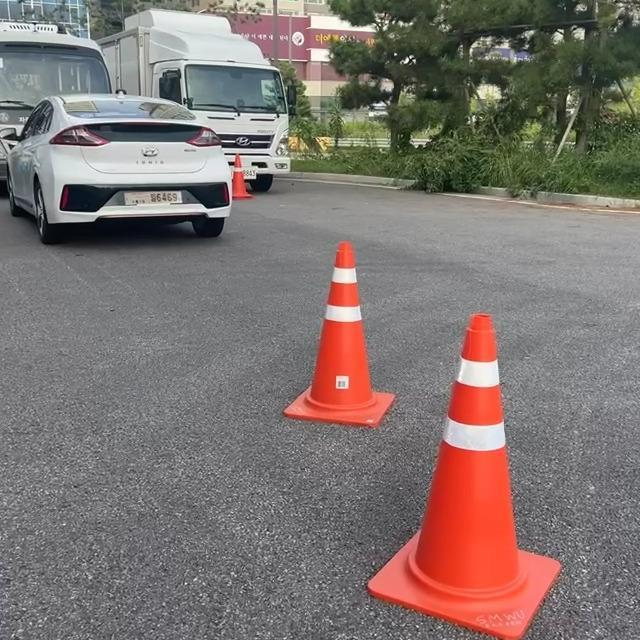fallen_object: (332, 279, 582, 617), (272, 229, 436, 448), (208, 91, 304, 216)
